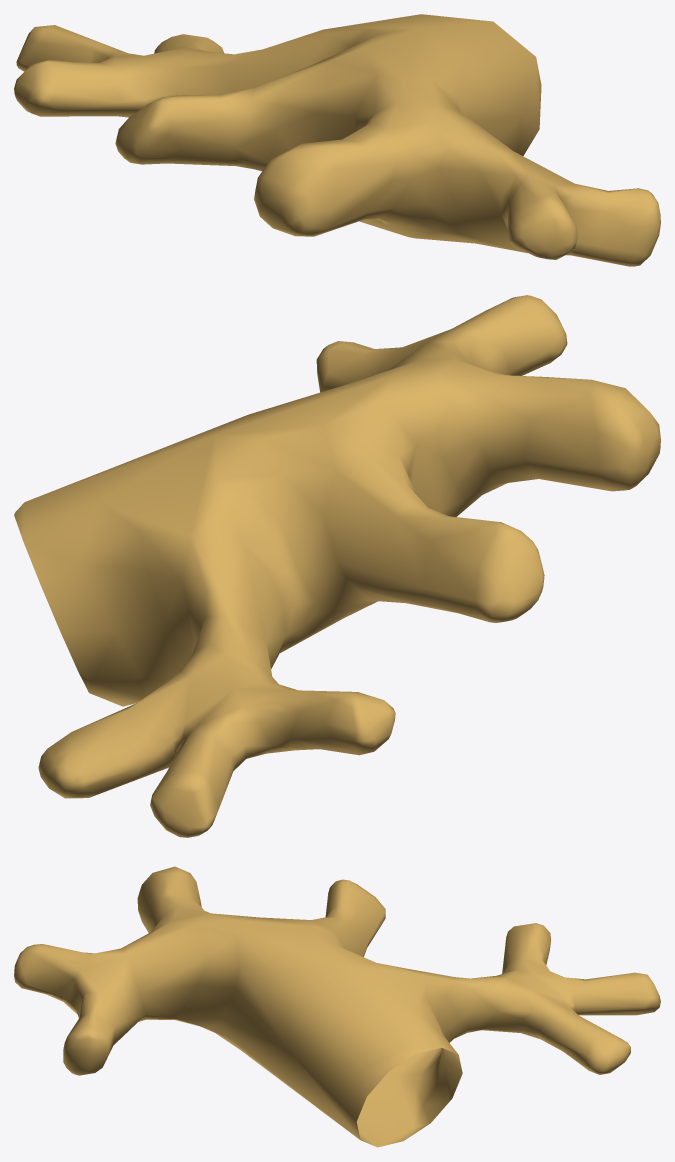
3 renders of one model, top to bottom at view 1: azimuth 30°, elevation 25°; view 2: azimuth 150°, elevation 25°; view 3: azimuth 270°, elevation 25°, orthographic. The views are drawn at different scales.
Visible parts, largest first — view 1: 右侧肾盂; view 2: 右侧肾盂; view 3: 右侧肾盂.
Boxes of the visible parts, <box> form: 右侧肾盂: <box>14,14,660,266</box>; 右侧肾盂: <box>14,295,660,837</box>; 右侧肾盂: <box>14,866,660,1147</box>.
Bounding box in the file's own units: 0.0637 × 0.0315 × 0.1098.
